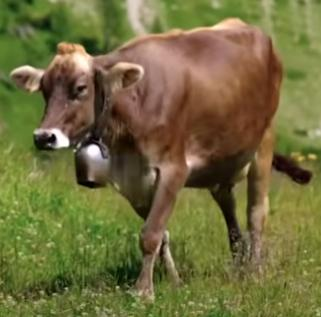cow: (11, 23, 283, 301)
